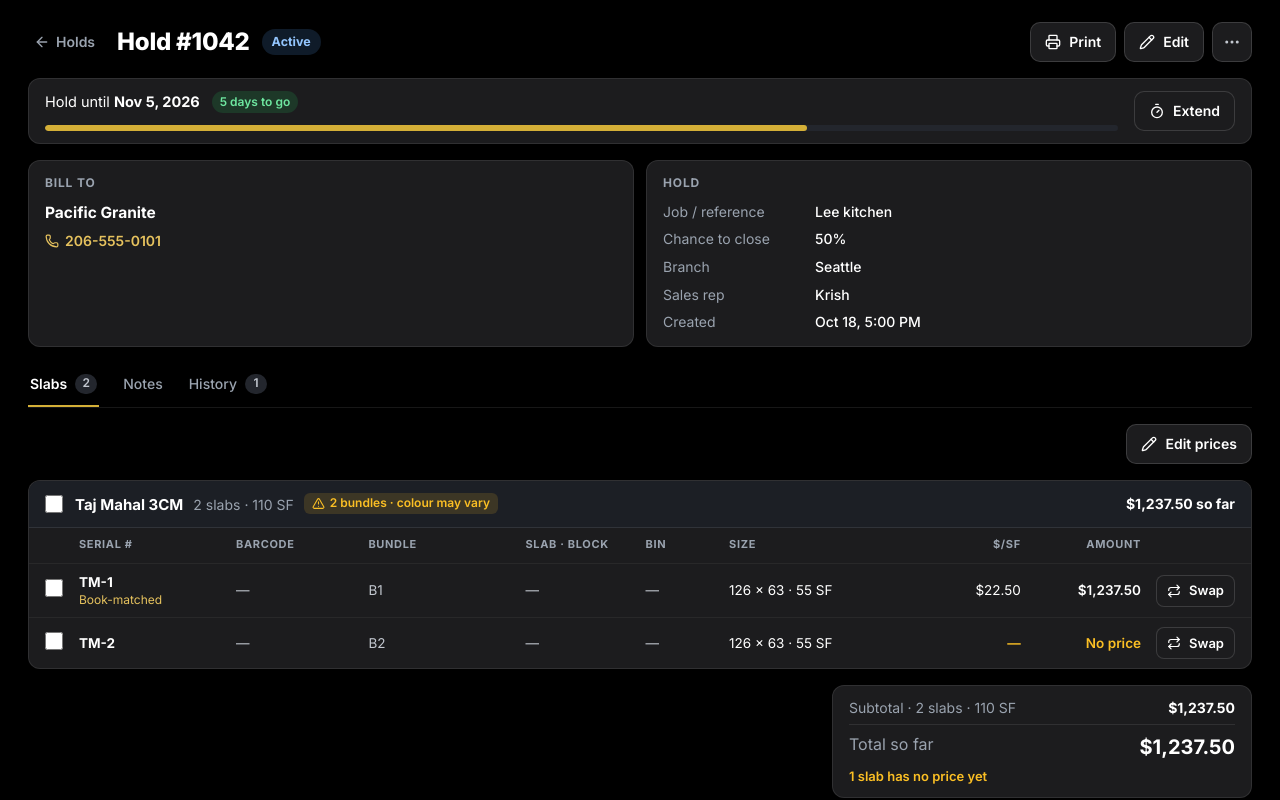
Test case: A hold › shows the print preview (here, pdf.js fails and says so)
Click the button "Print" at (1073,42), box x1=1030 y1=22 x2=1116 y2=62
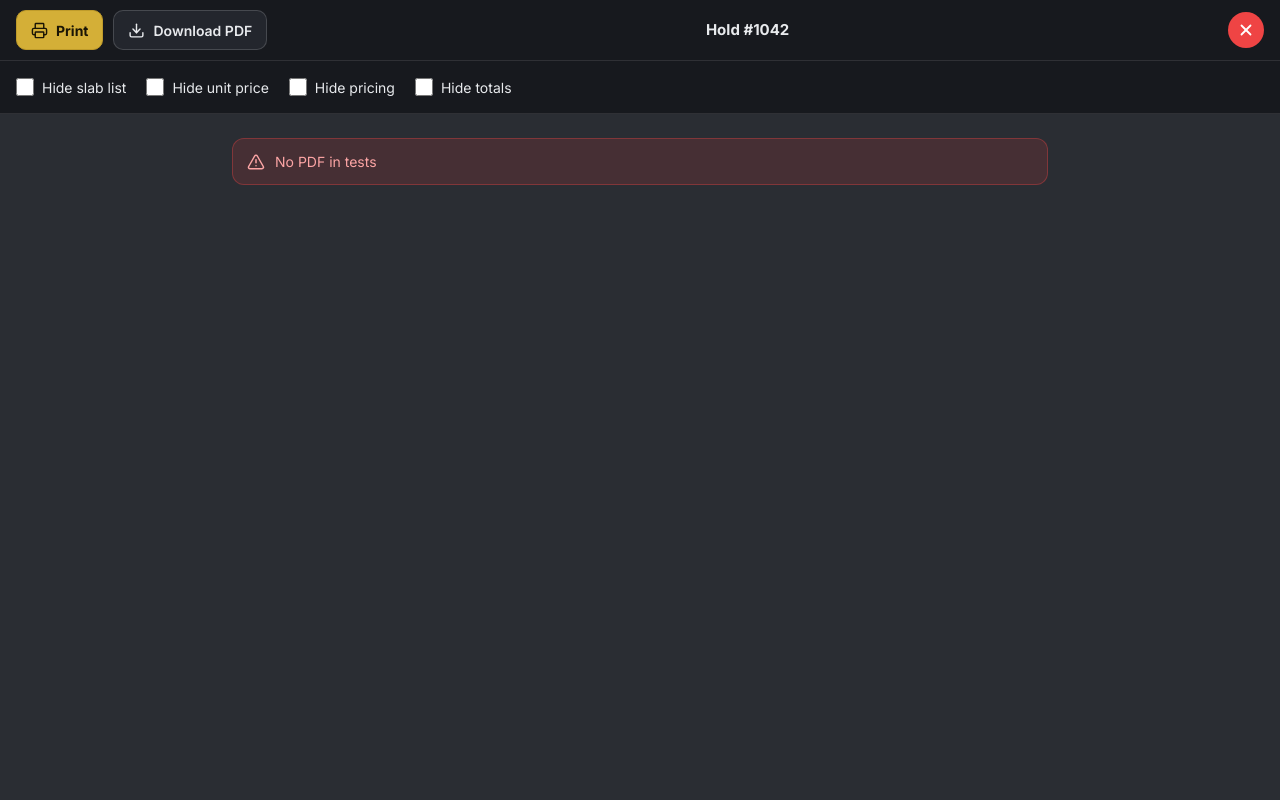
Check: the dialog named "Hold #1042 print preview" is shown
Check: the message reads "No PDF in tests", box x1=275 y1=153 x2=377 y2=170
